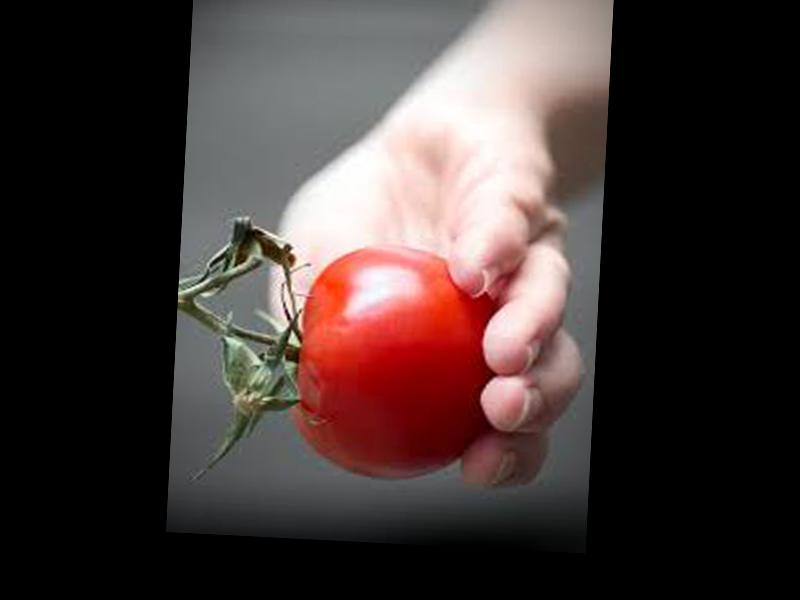Tomato: (284, 242, 500, 484)
